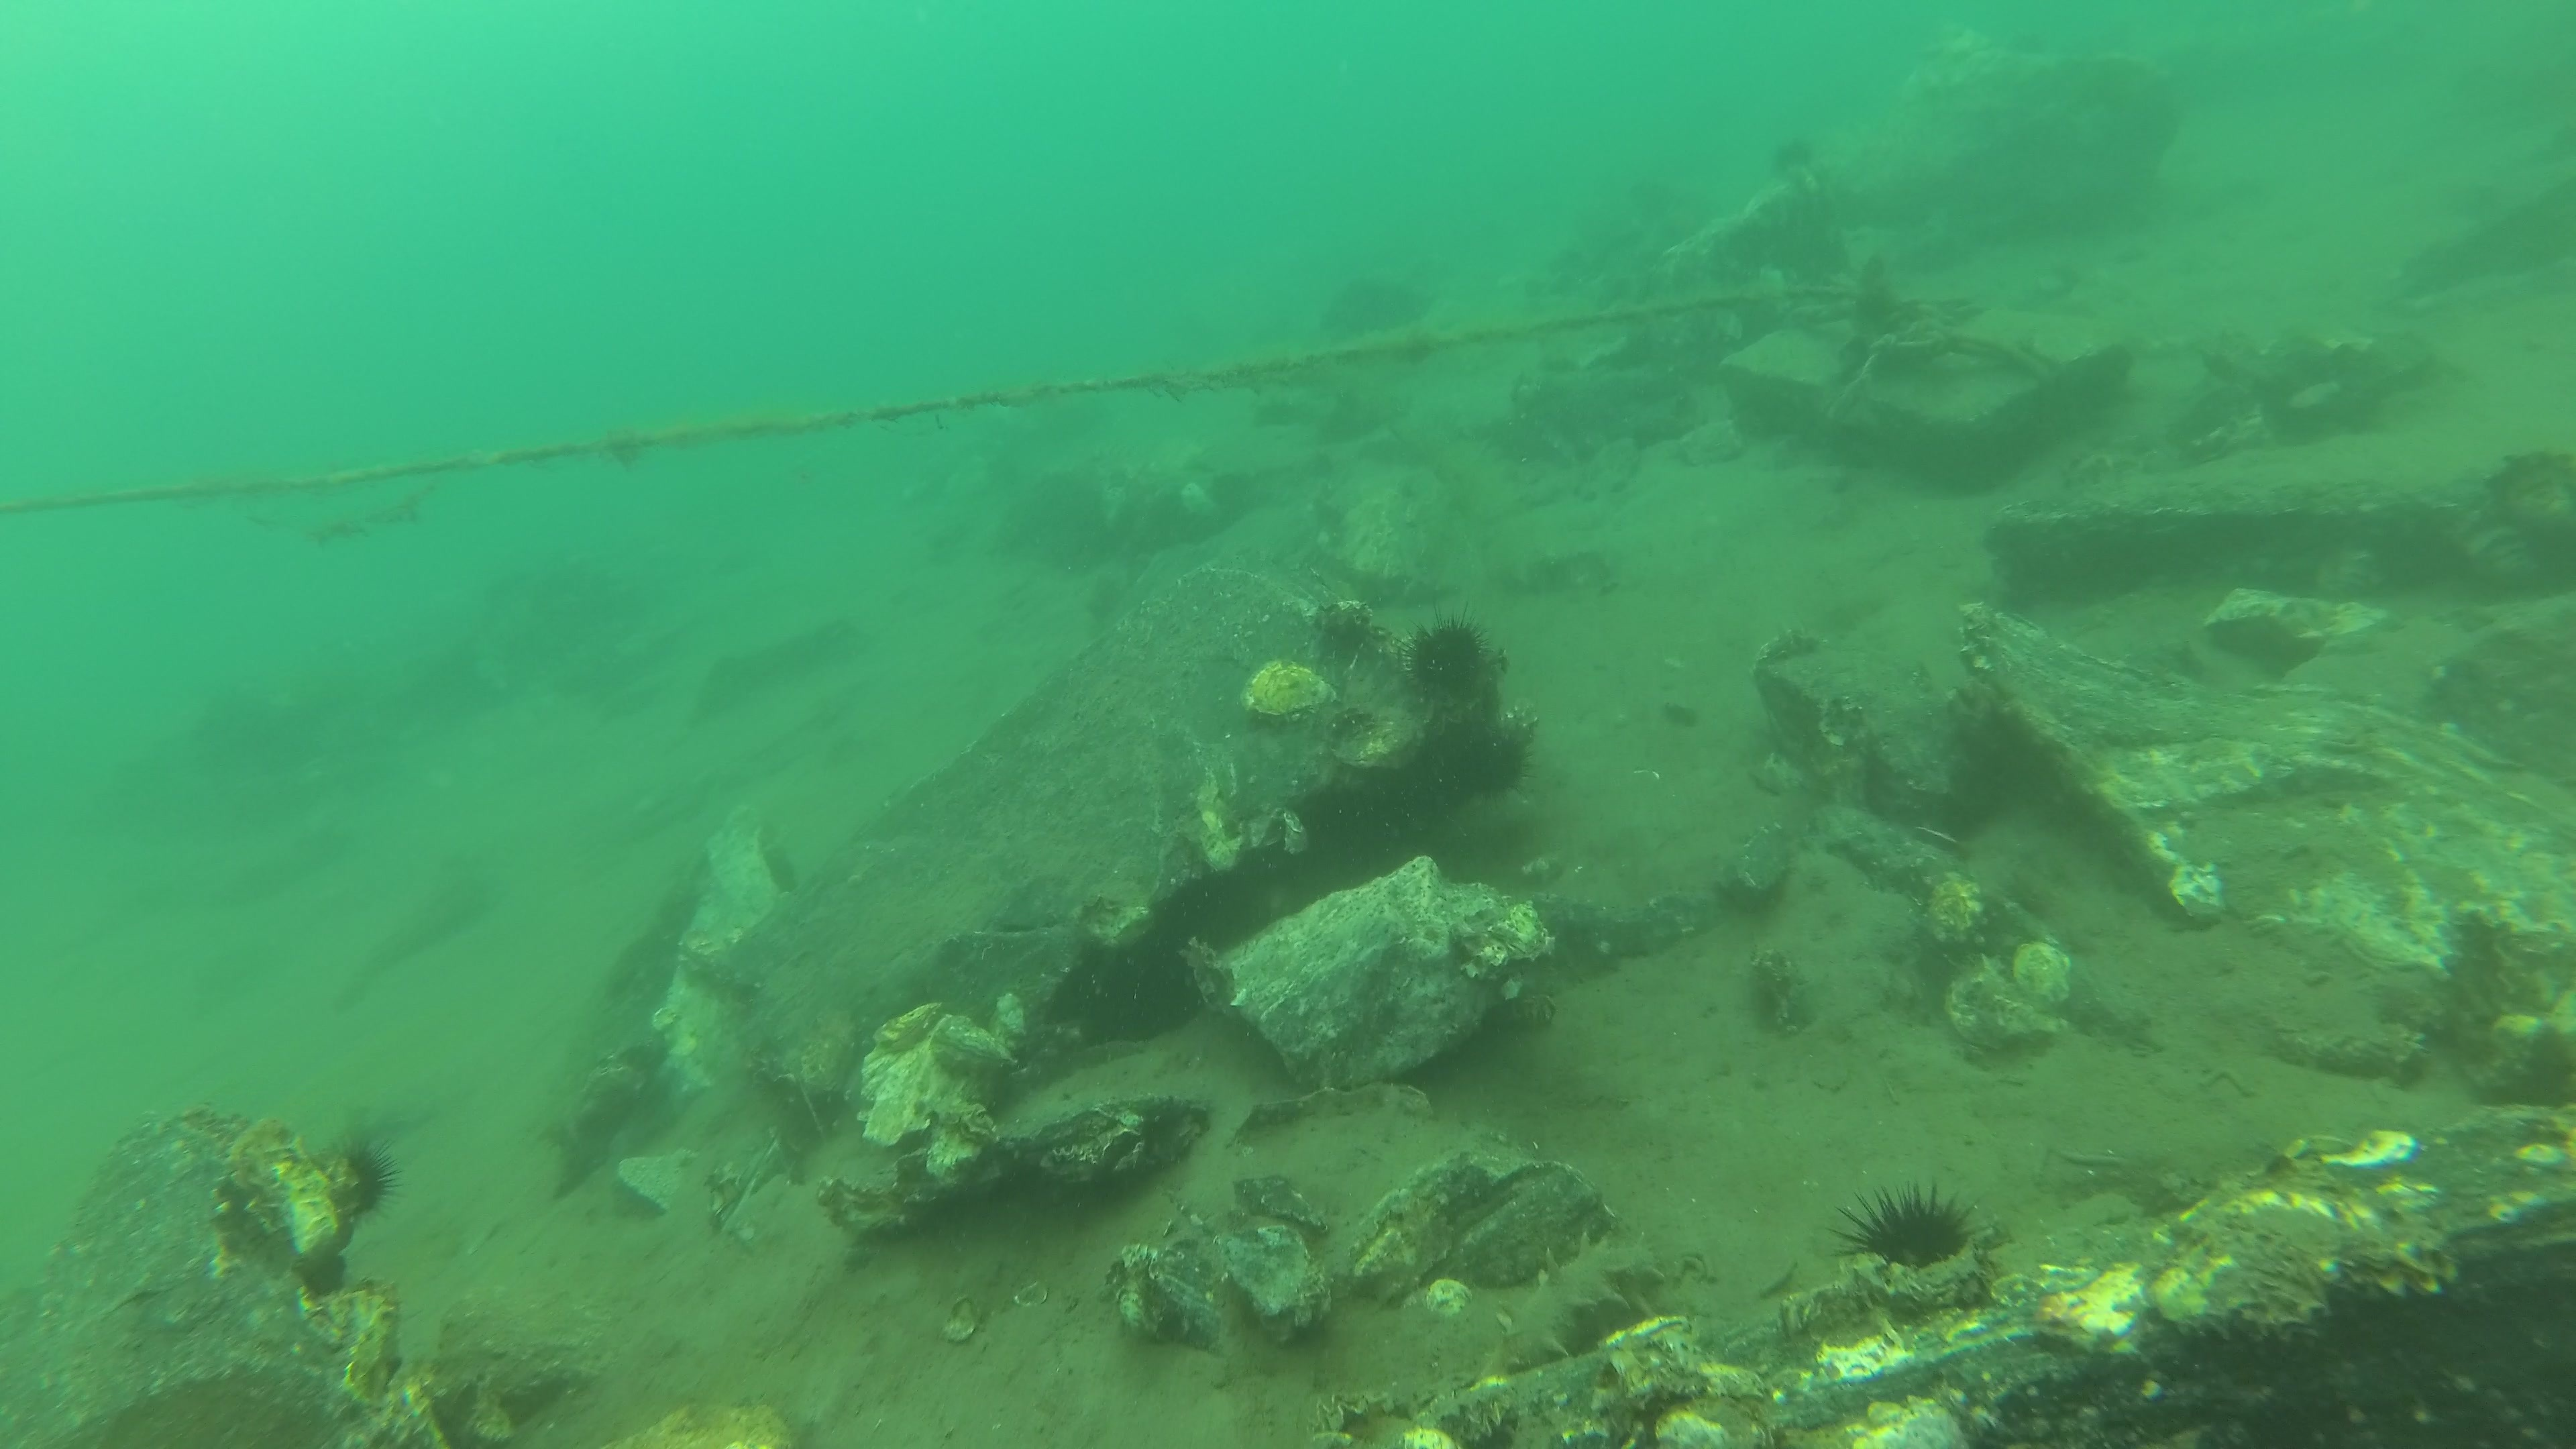echinus: (1836, 1185, 1989, 1270), (1408, 610, 1504, 708), (333, 1129, 403, 1230), (1460, 731, 1529, 794)
holothurian: (1483, 1231, 1658, 1378)
